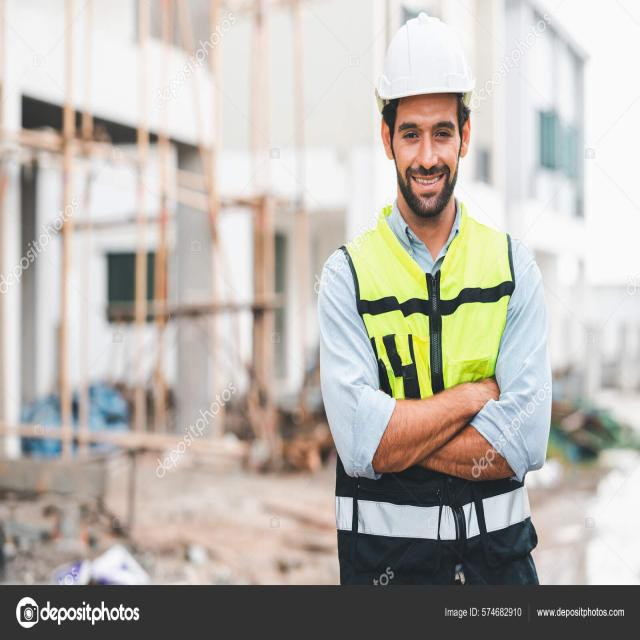helmet: (371, 11, 476, 113)
no-goggles: (398, 107, 468, 160)
vest: (332, 199, 539, 587)
